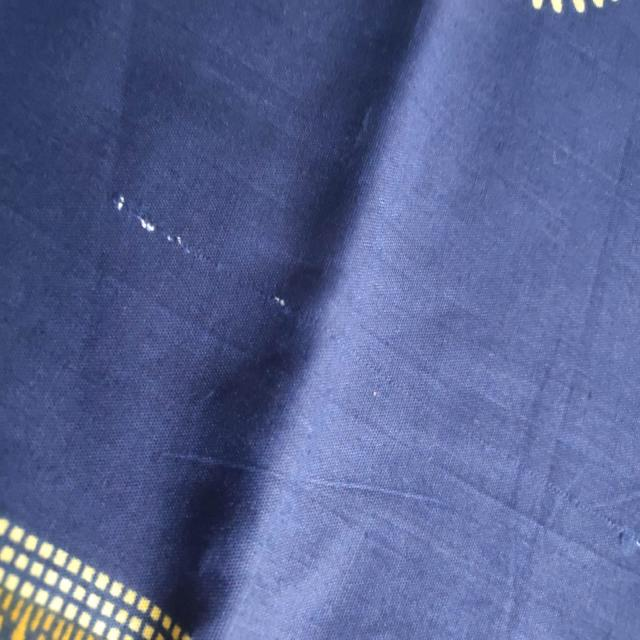selvet: (110, 182, 295, 317)
